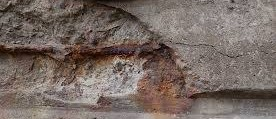Corrosion: (136, 53, 200, 119)
Crack: (175, 42, 269, 59)
Exposed reinforcement: (1, 42, 161, 62)
Spalling: (1, 1, 189, 106)
